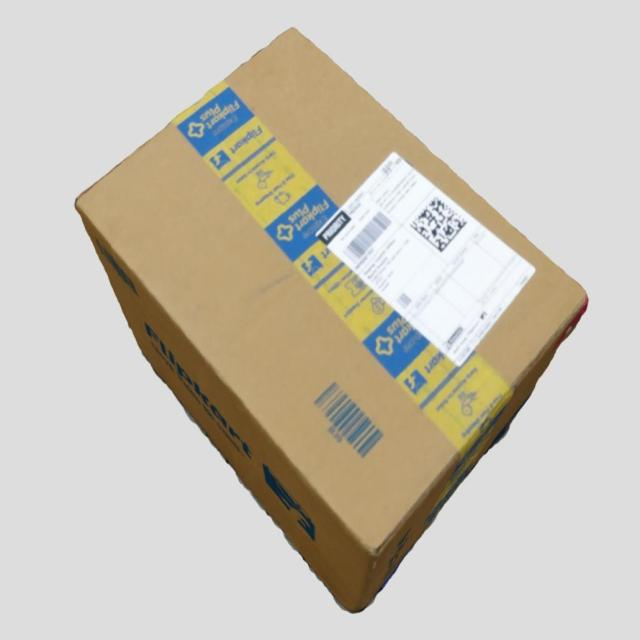box: (74, 28, 588, 612)
